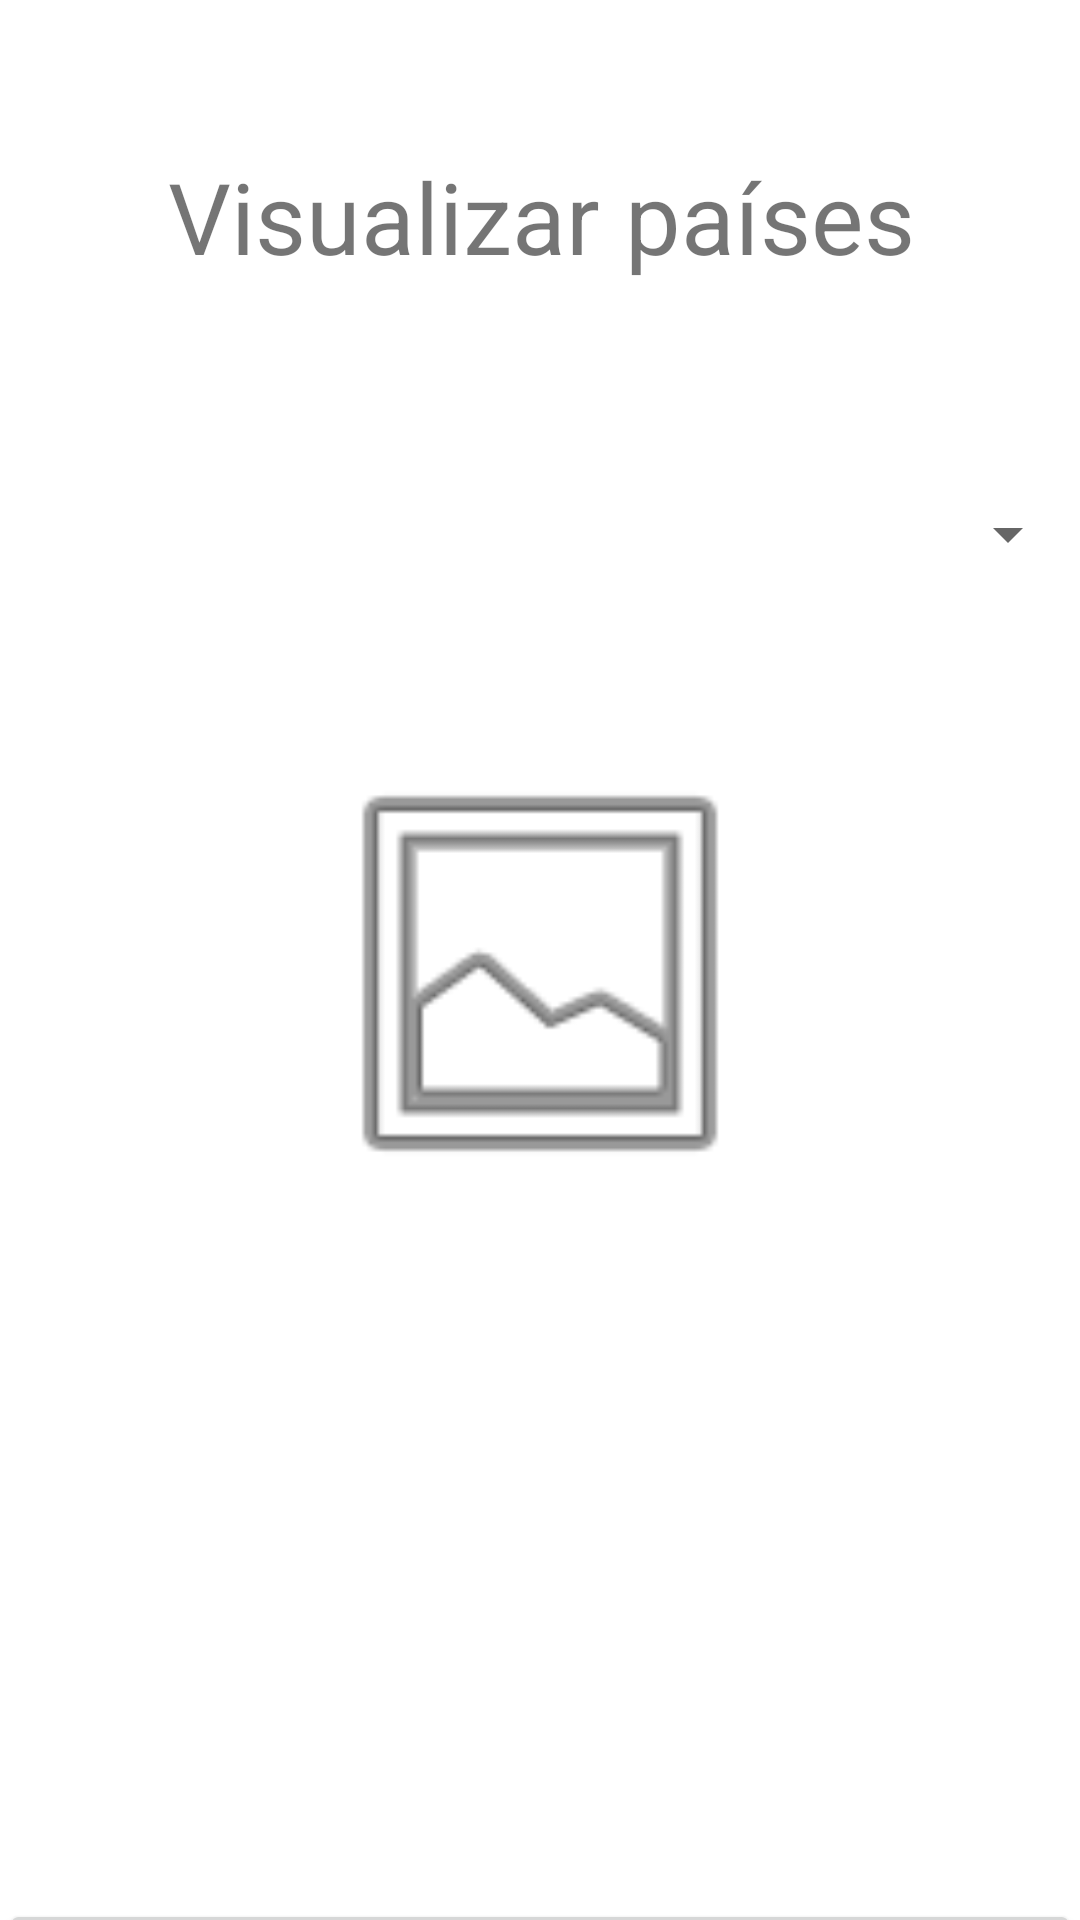

Named icons in this screenshot (1080 × 1920) and their bounding boxes, (x1, y1, x2, y2):
gallery: (362, 795, 718, 1152)
